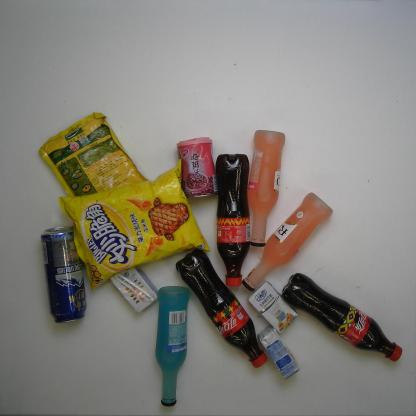Alcohol: (242, 191, 335, 293), (244, 130, 286, 248), (39, 225, 88, 325), (155, 285, 190, 408)
Canned Food: (176, 136, 219, 198)
Drink: (172, 249, 269, 370), (280, 272, 403, 363), (214, 153, 251, 288)
Milk: (247, 280, 299, 334), (256, 324, 300, 381), (110, 264, 160, 314)
Puffed Food: (57, 158, 211, 291)
Seasoner: (38, 112, 150, 236)
